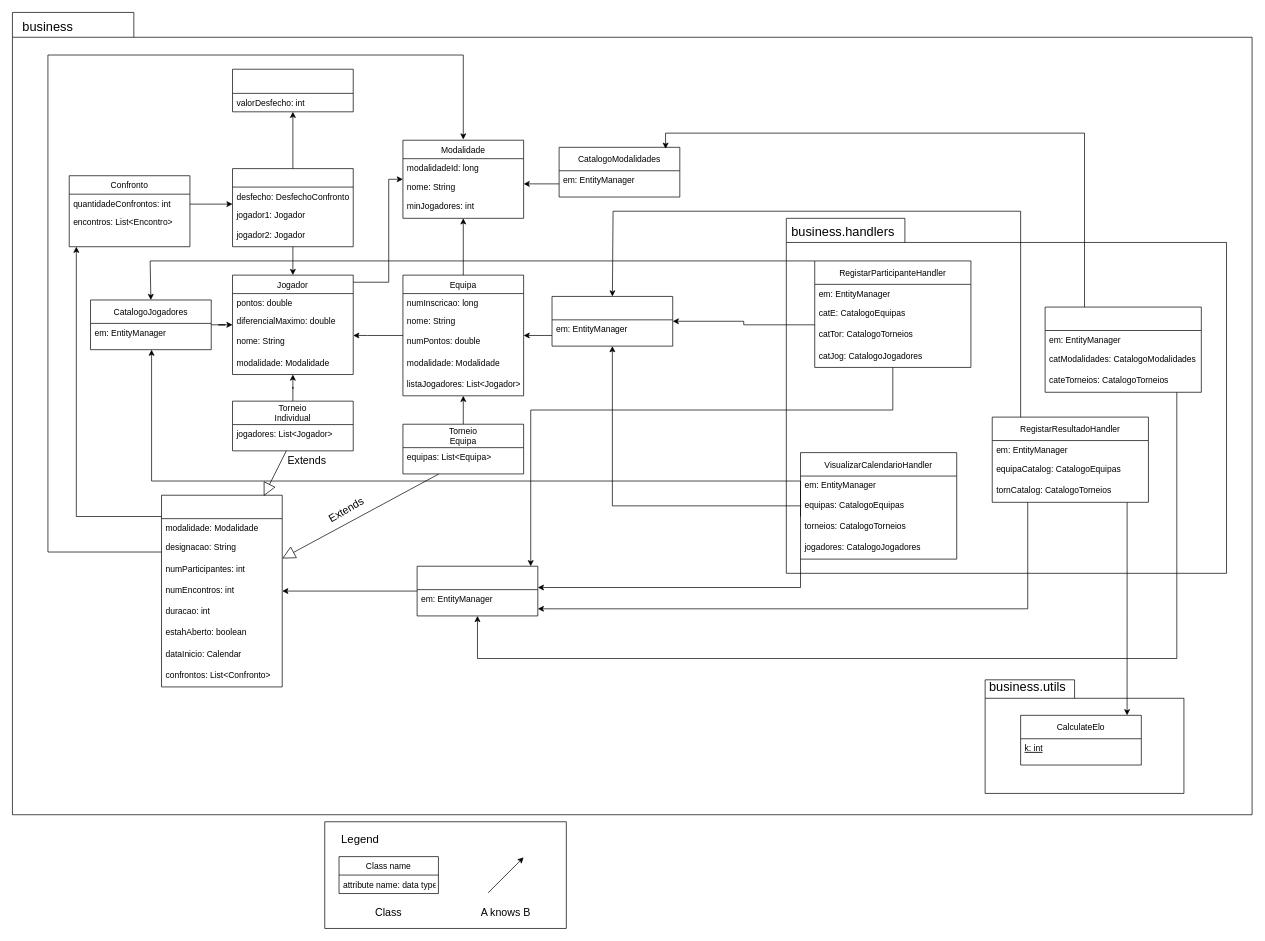
This 1265x941 diagram has some shape labels left out. Here are the shapes that lost their labels. From the top down, the box of each, then its label:
(232, 69, 353, 112): Desfecho Confronto
(232, 168, 353, 247): Encontro
(551, 296, 673, 346): CatalogoEquipas
(1044, 306, 1201, 392): CriarTorneioHandler
(161, 495, 282, 687): Torneio
(416, 566, 538, 616): CatalogoTorneios
